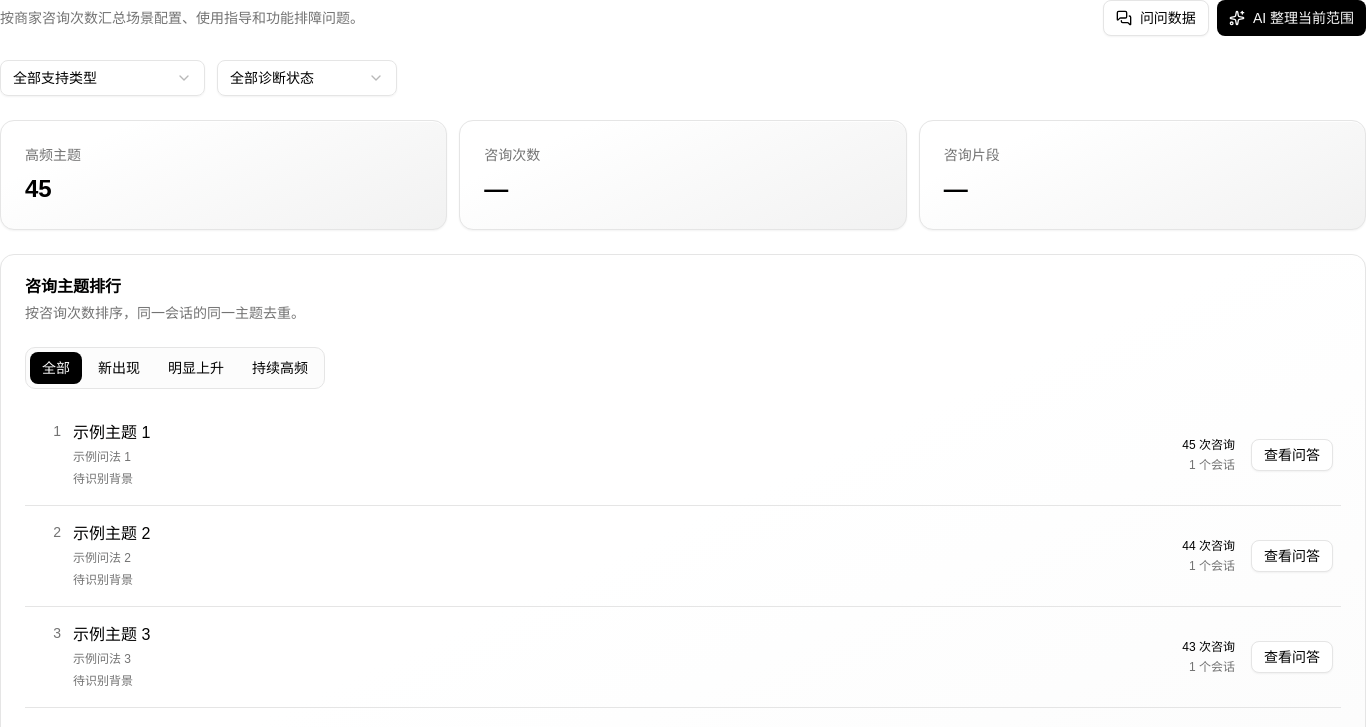
Scenario: VOC frequency ranking pagination › explains which period lacks data when a dated trend filter is empty
Click the button "明显上升": (196, 368) [156,352,236,384]
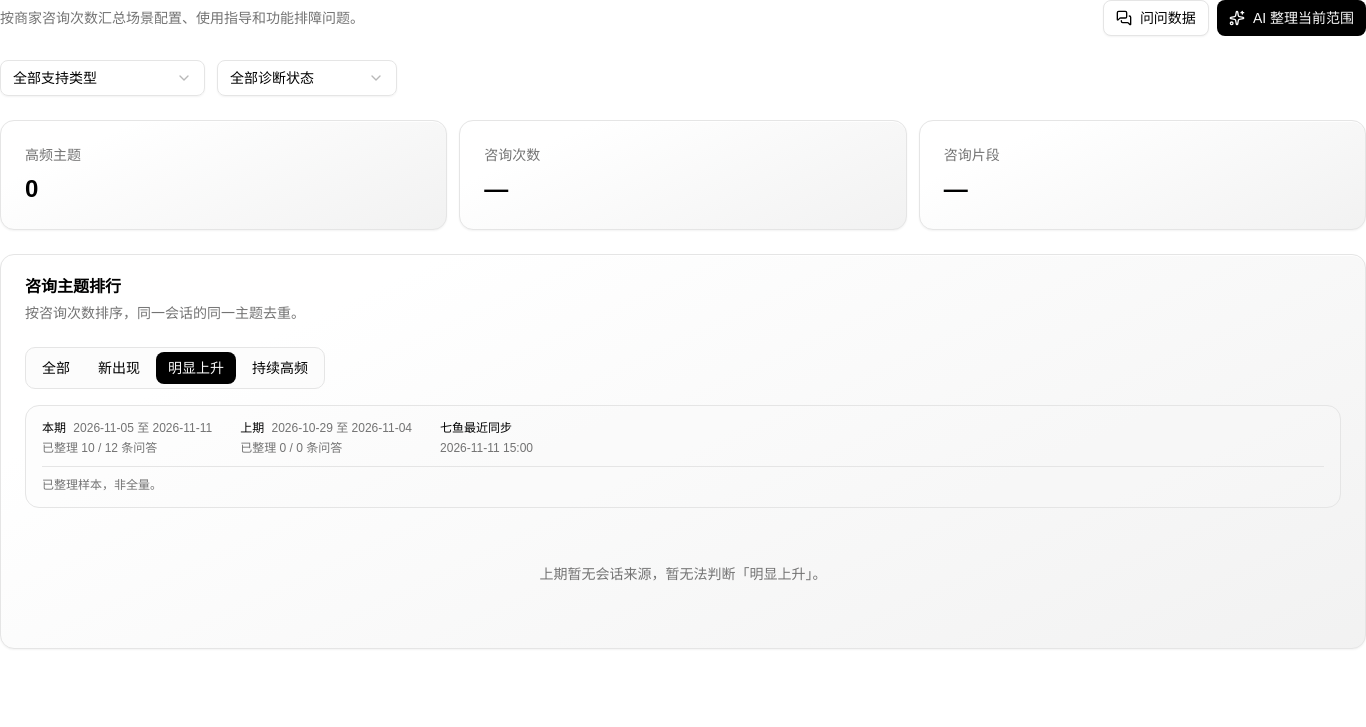
Expected: the text "上期暂无会话来源，暂无法判断「明显上升」。" is shown, [540,566,826,582]
